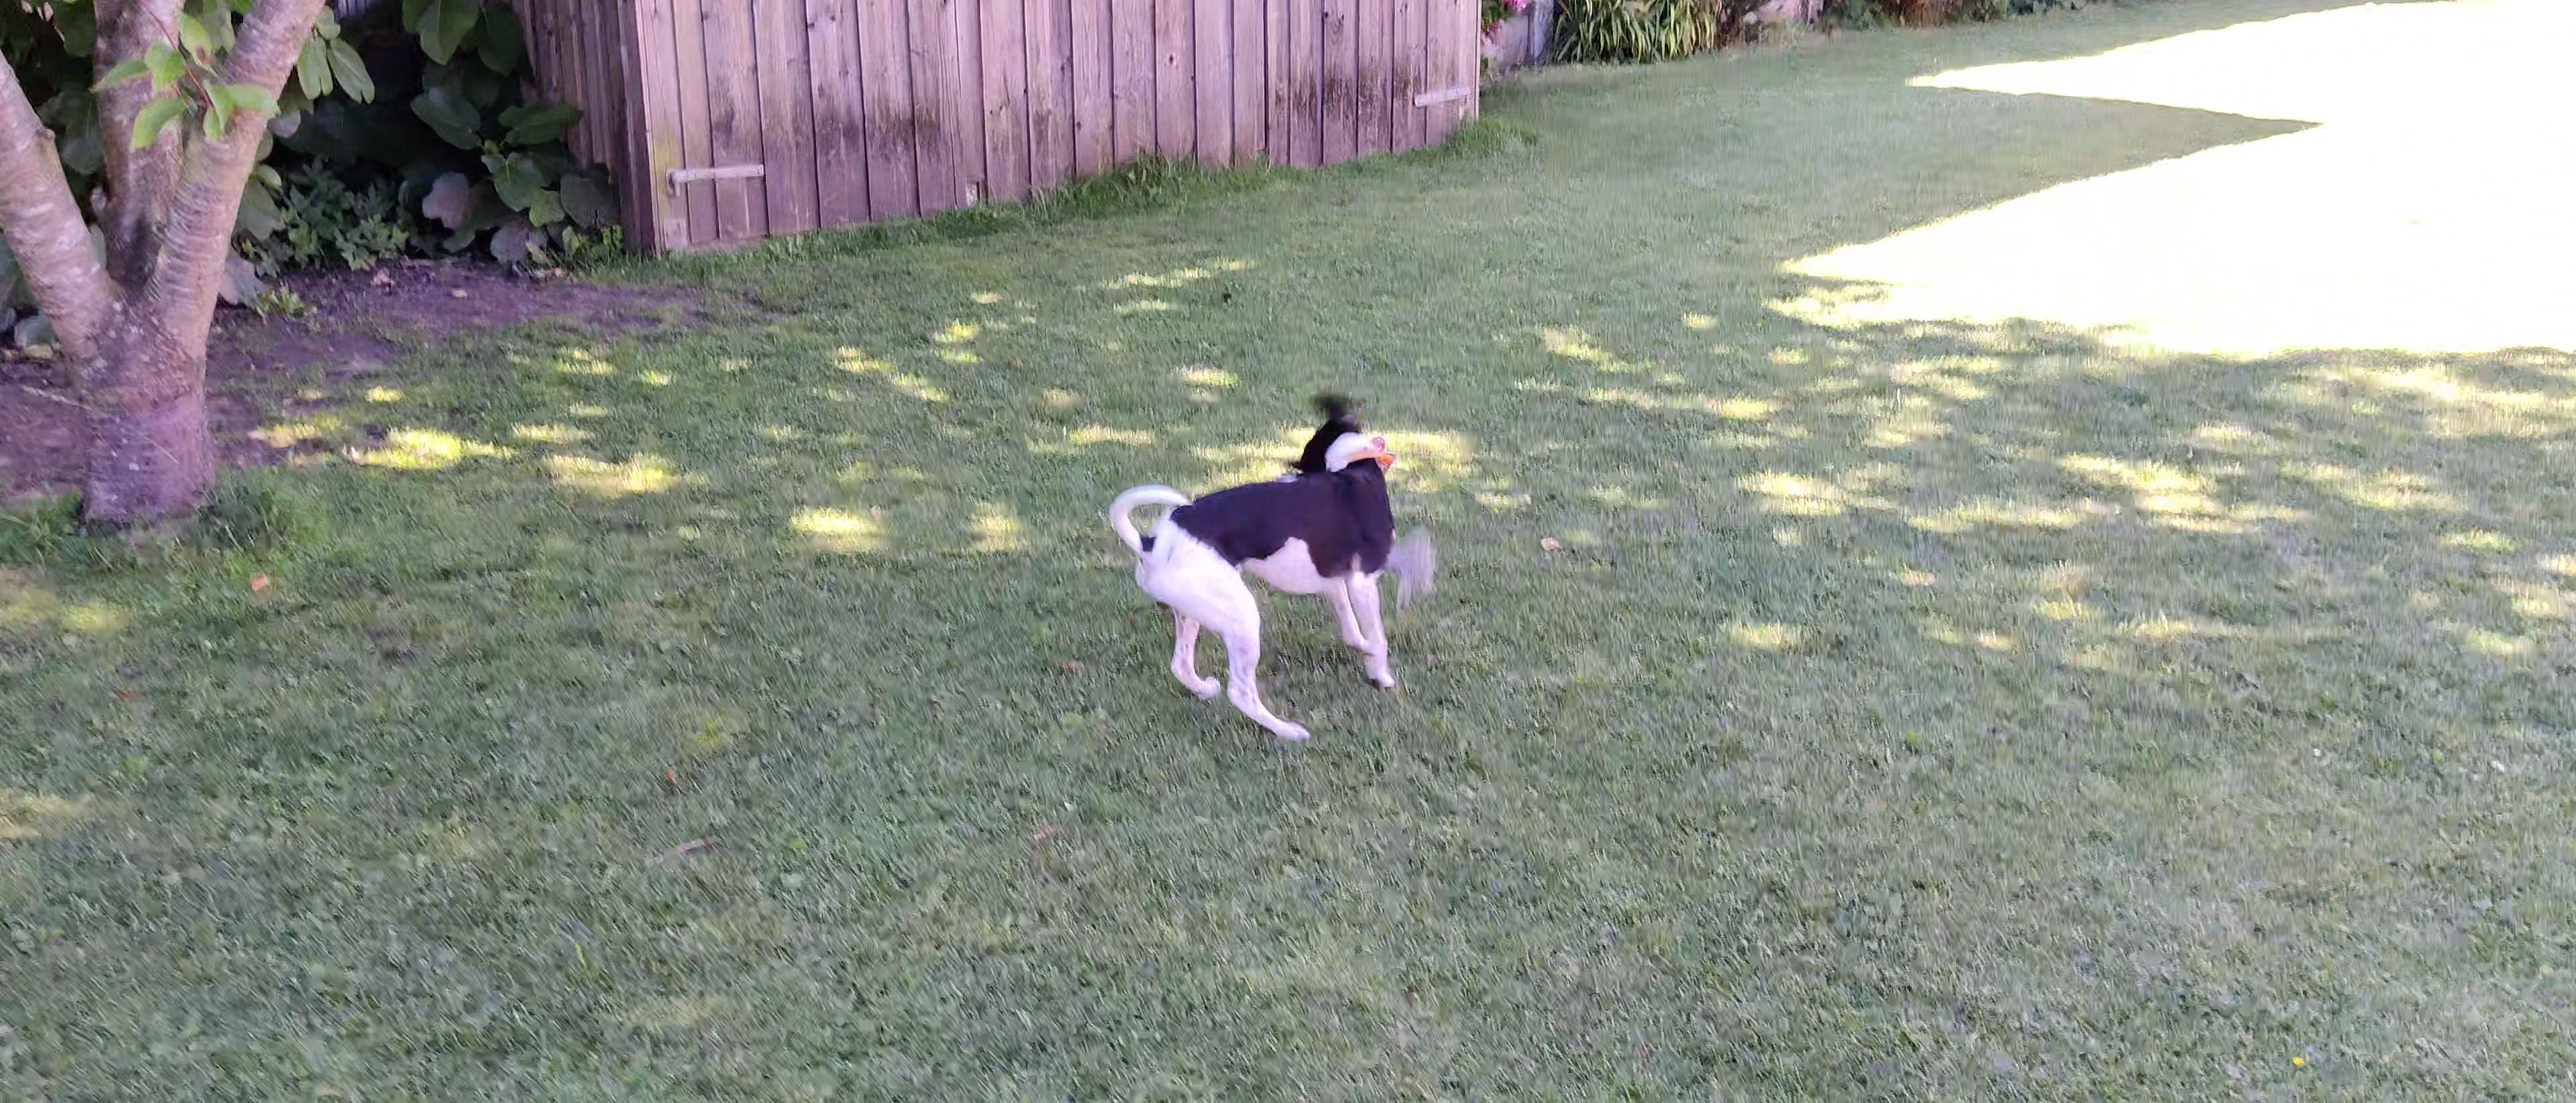Dog: (1106, 386, 1437, 745)
